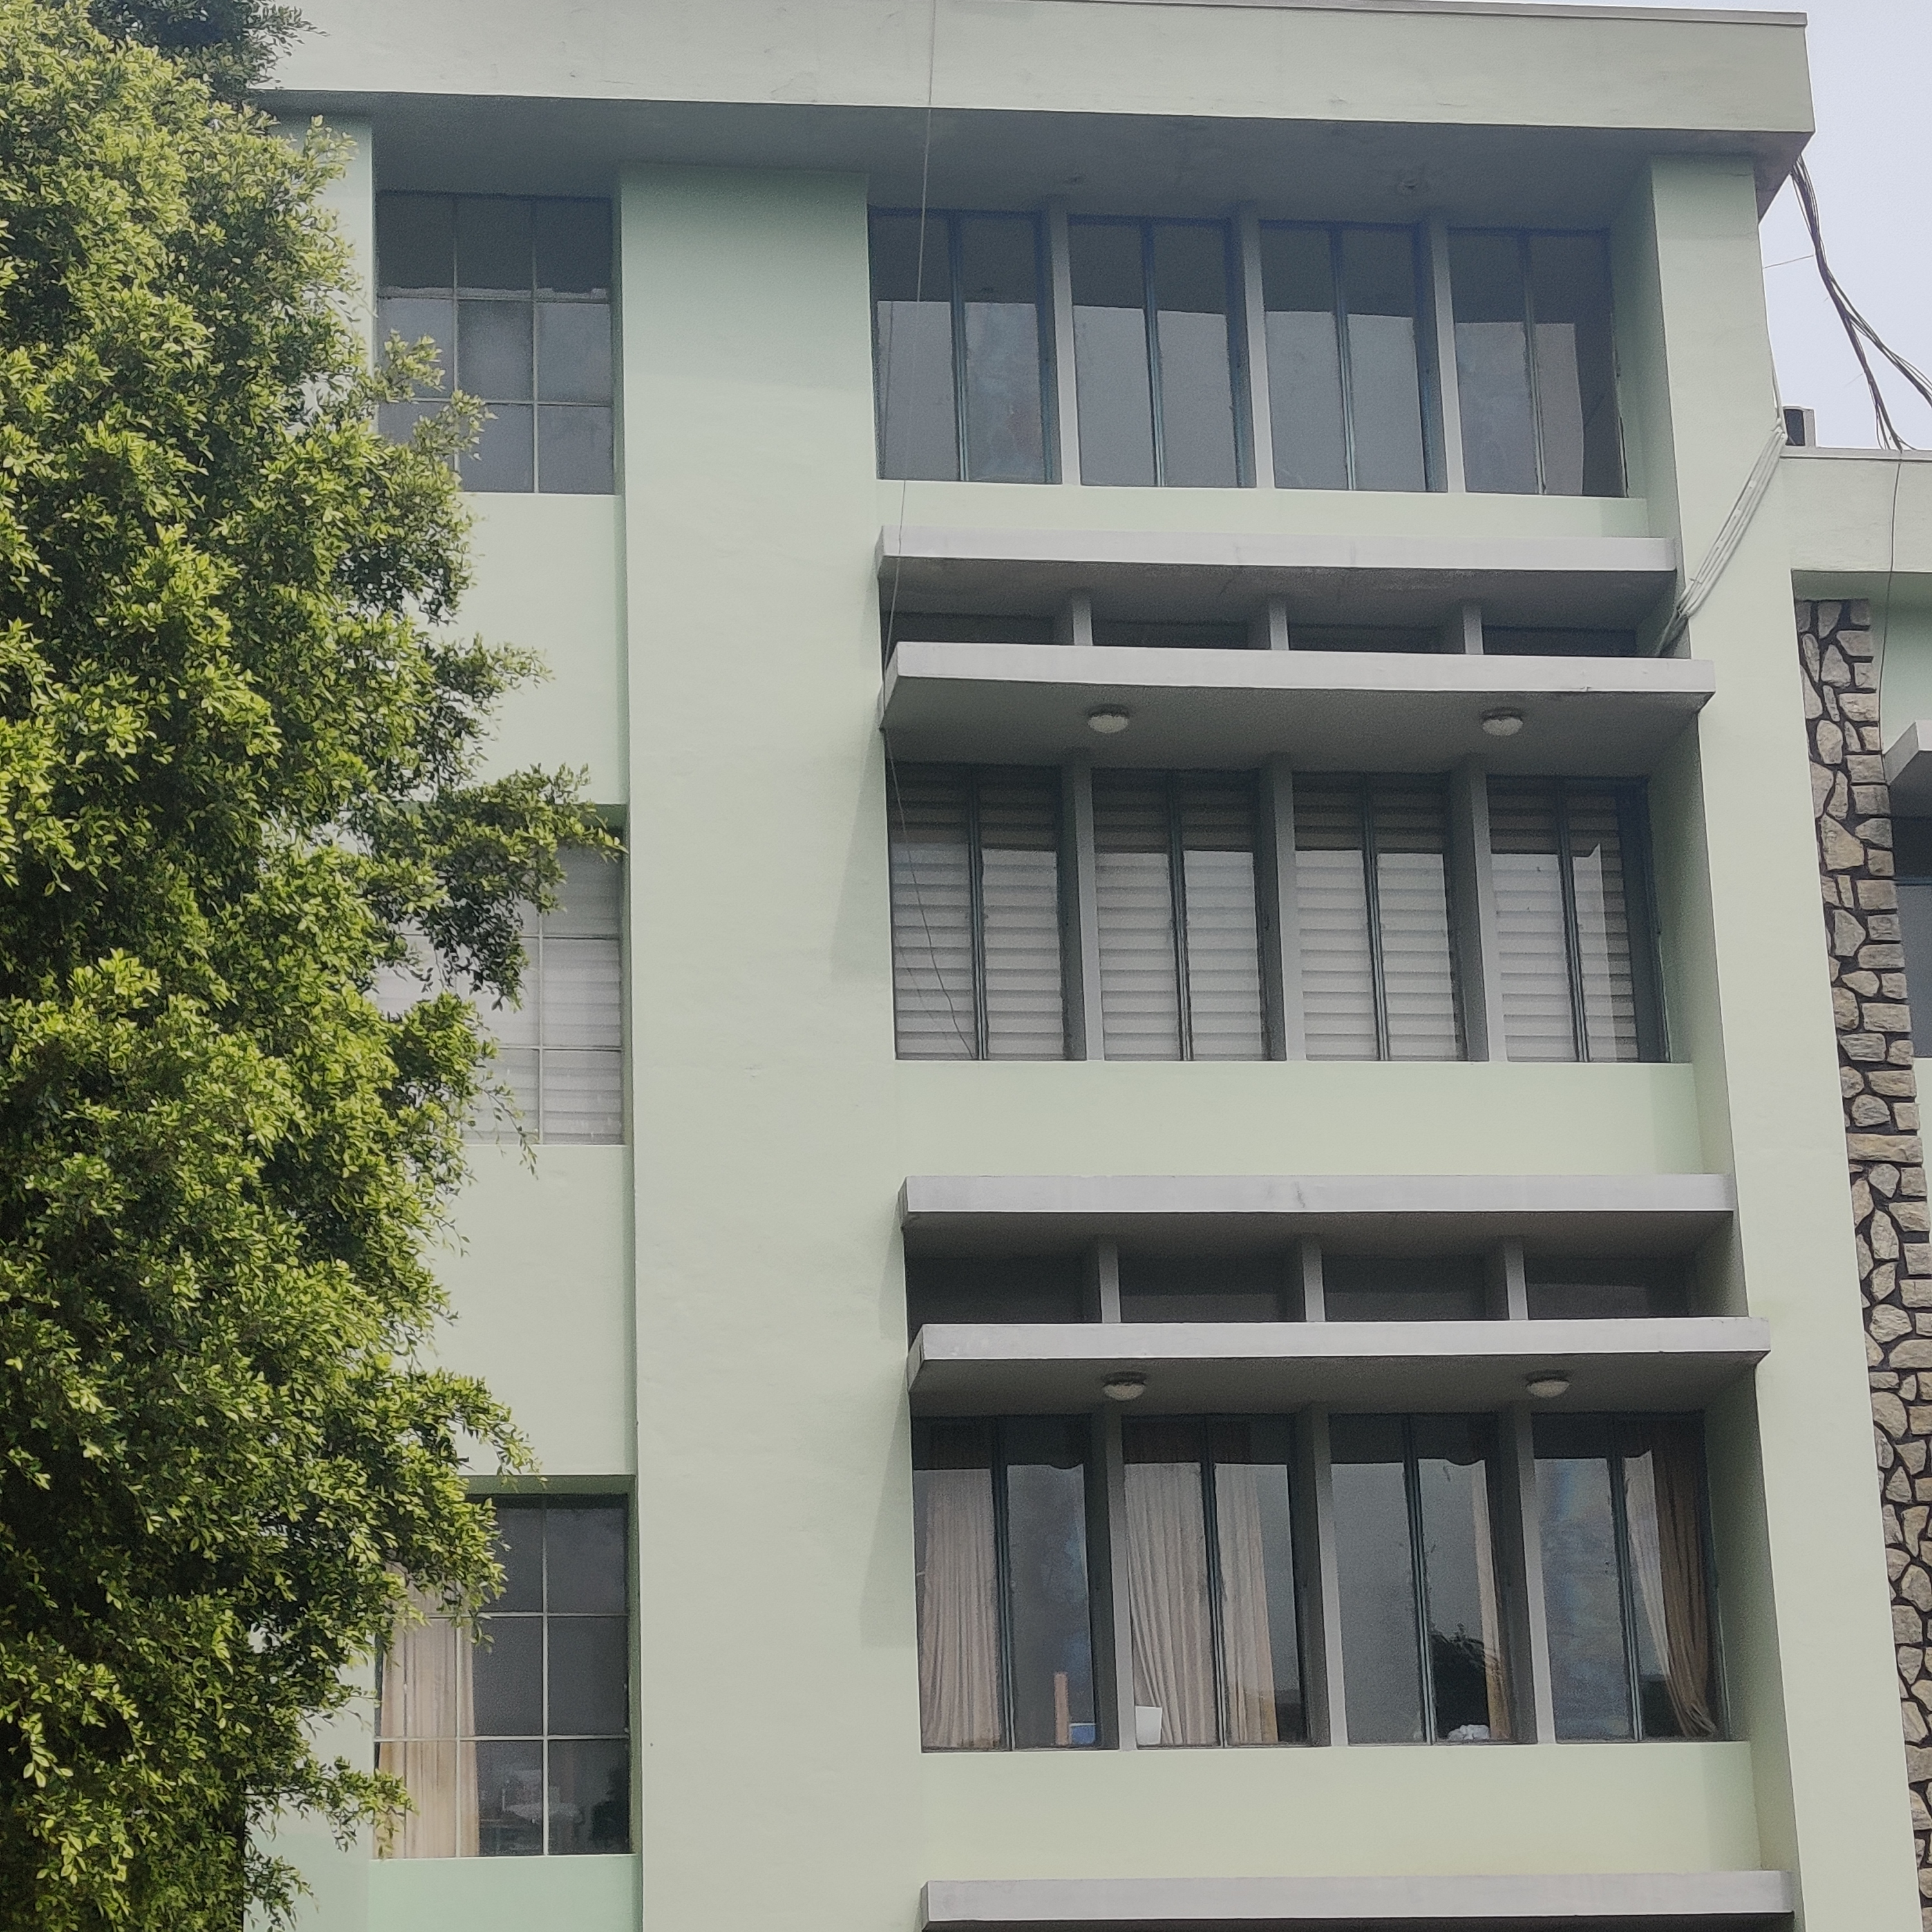Block 1: (421, 4, 1932, 1932)
